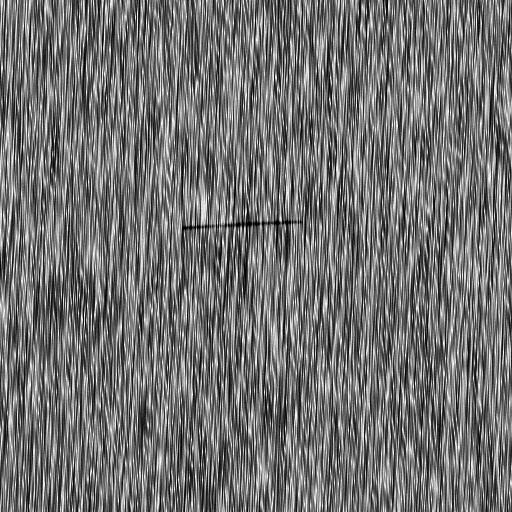DefectTypeC: (184, 217, 306, 230)
